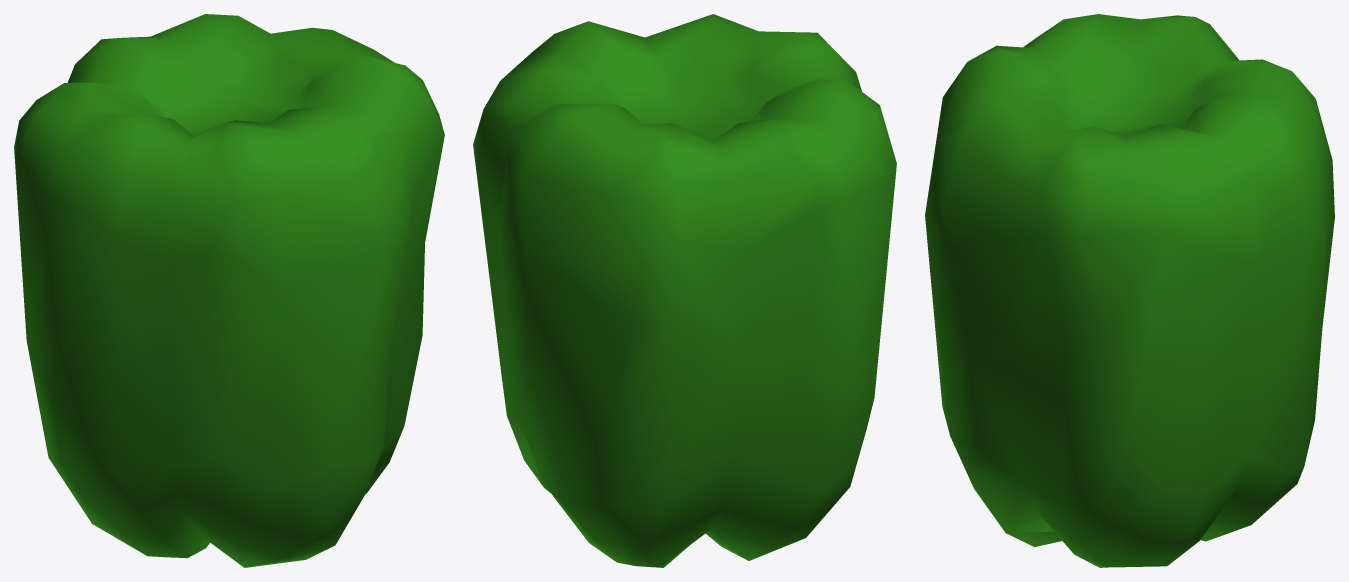
The model's file is pepper6.obj.
3 views of the same model, side by side, from view 1: azimuth 30°, elevation 25°; view 2: azimuth 150°, elevation 25°; view 3: azimuth 270°, elevation 25° (orthographic).
Visible parts, largest first — view 1: pepper.1; view 2: pepper.1; view 3: pepper.1.
Part boxes in pixels (left/top/right/bottom): pepper.1: left=14, top=14, right=444, bottom=567; pepper.1: left=473, top=14, right=896, bottom=567; pepper.1: left=925, top=14, right=1334, bottom=567.
Size of the model in its own units: 9.42 by 11.3 by 9.07.
1 material, 1 textured.
